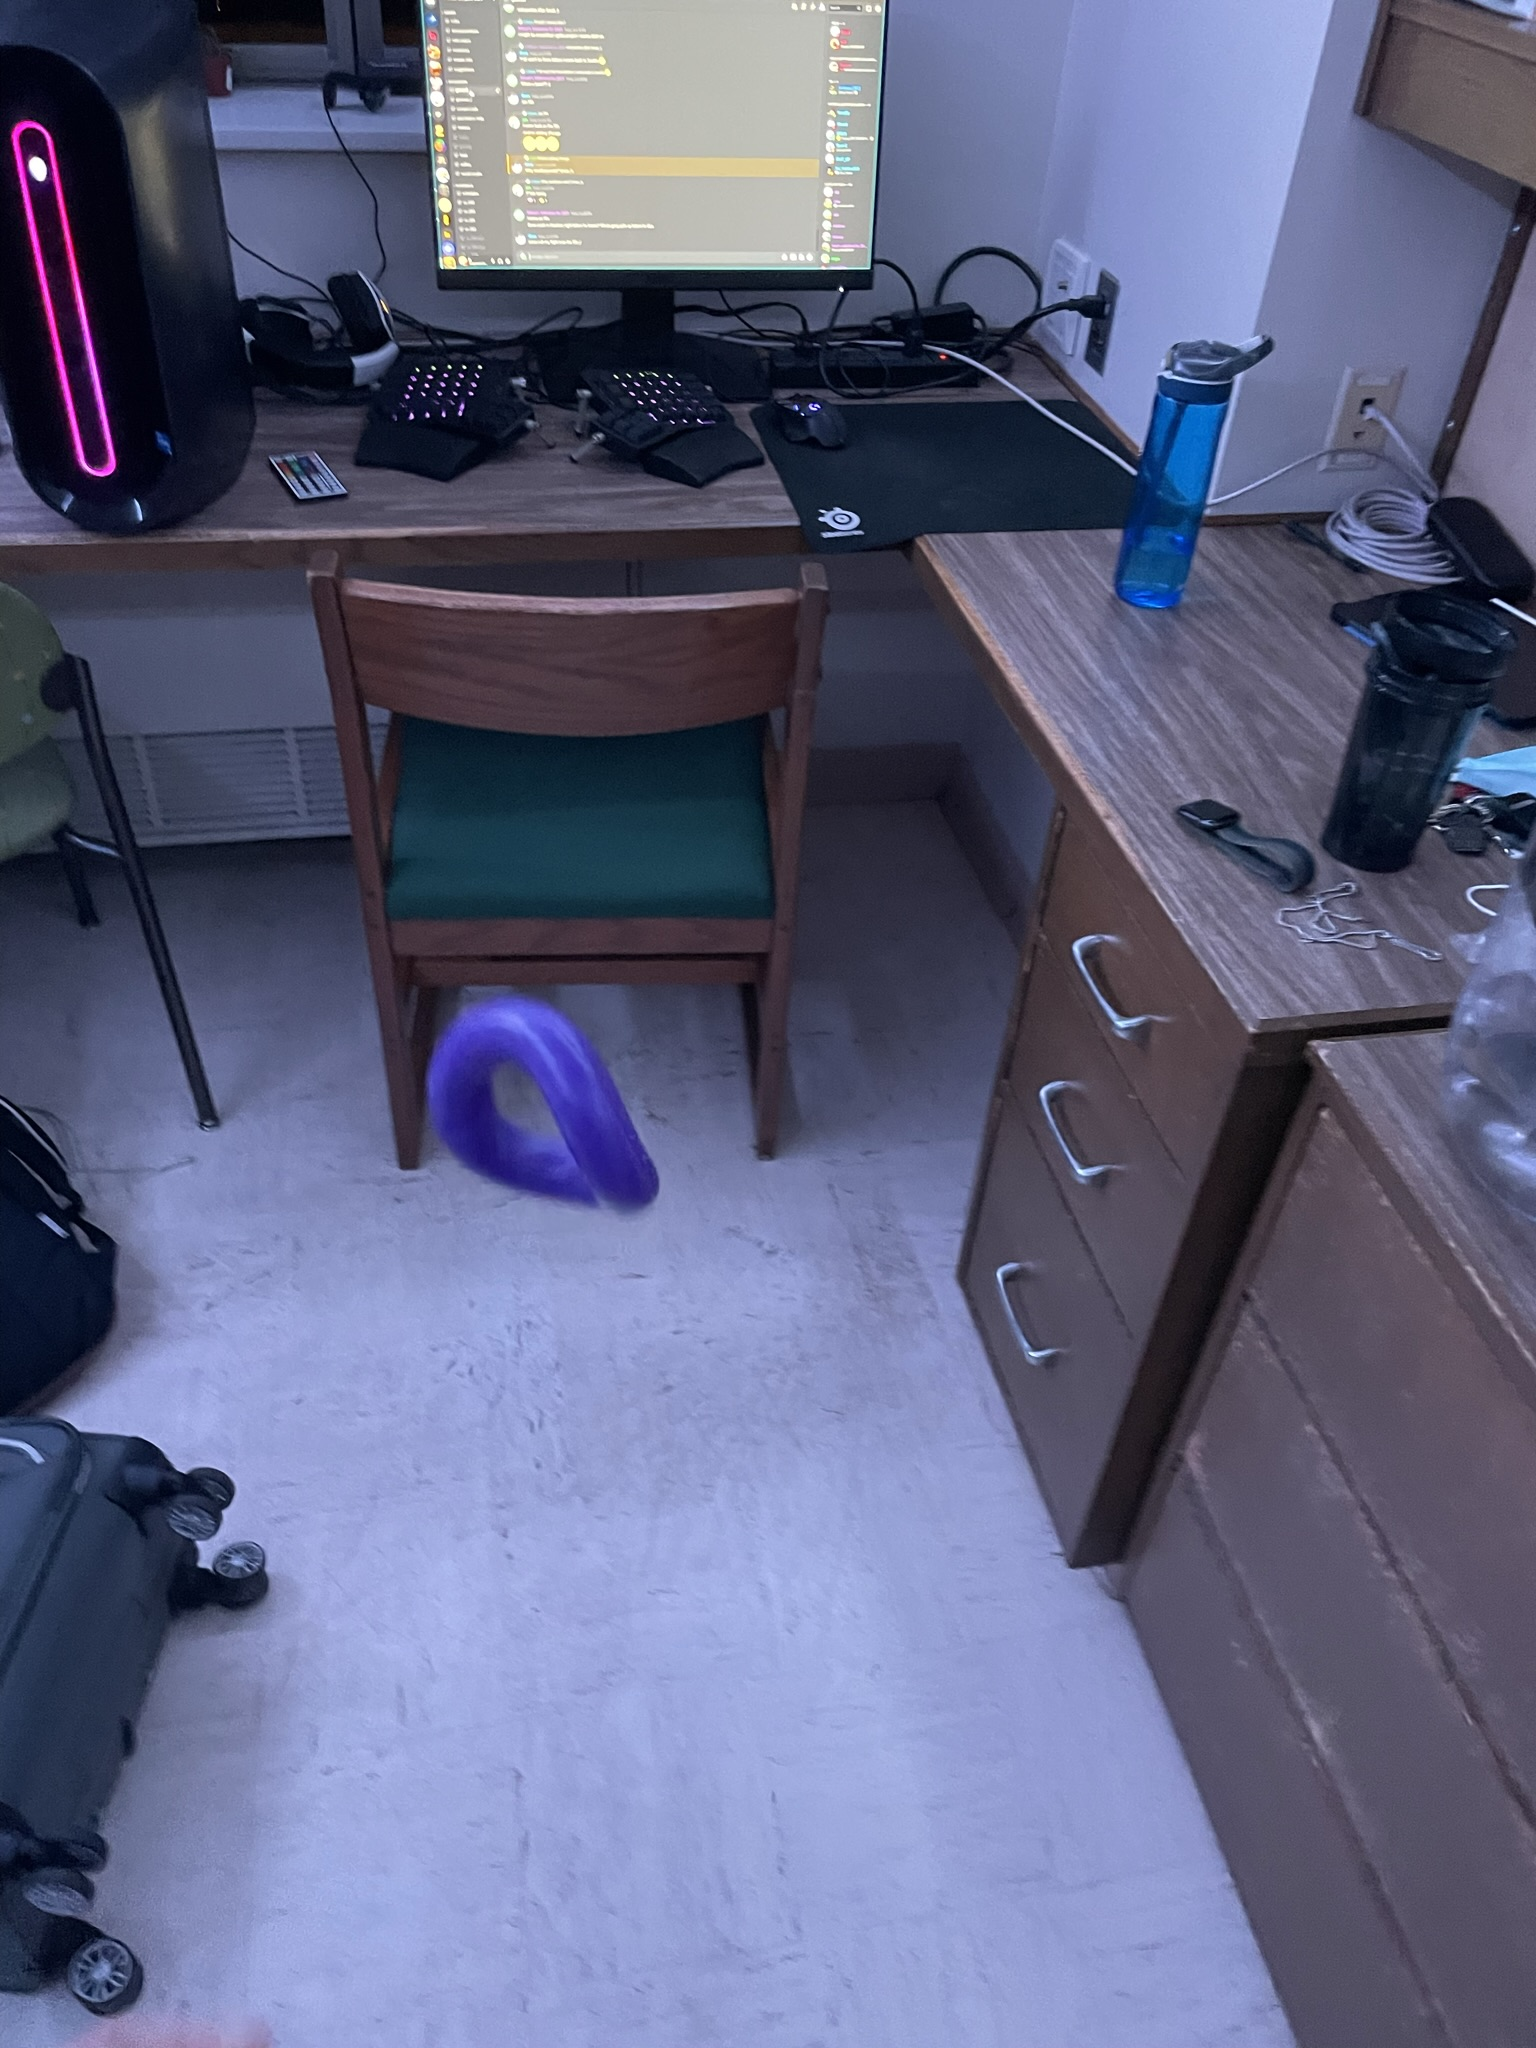ring: (419, 992, 660, 1216)
